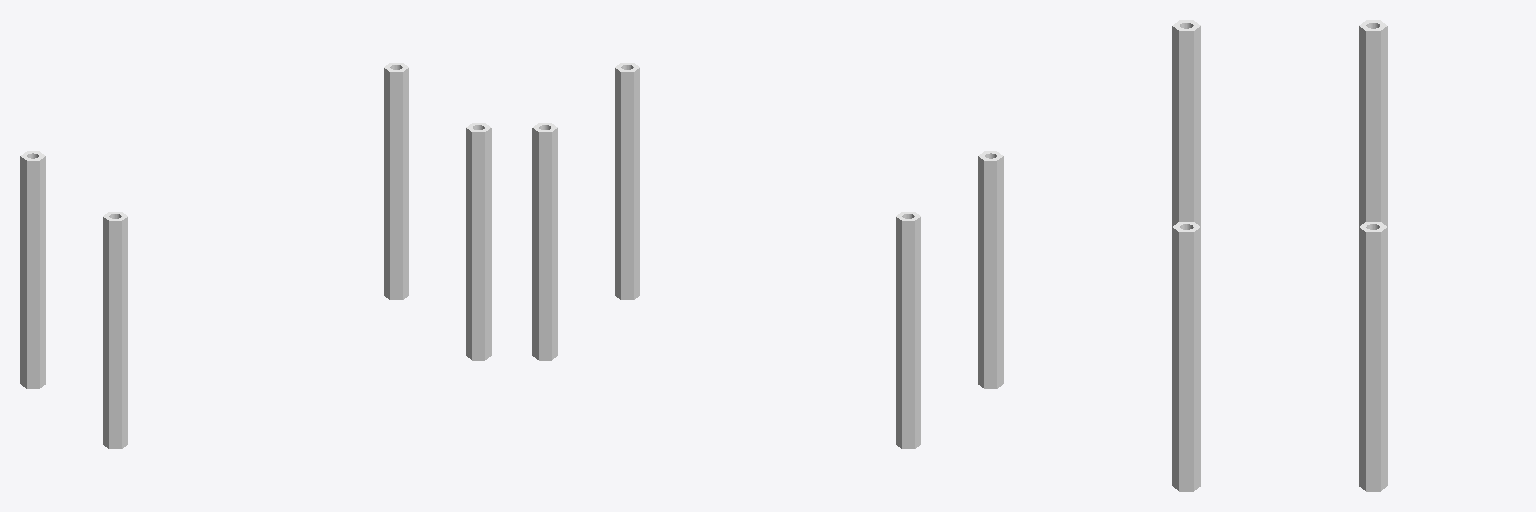
robot.urdf — robotcraft2019:
<?xml version="1.0"?>
<robot name="robotcraft2019">
    

<!-- ..Material Definitions.. -->
  <material name="black">
    <color rgba="0 0 0 1"/>
  </material>
  <material name="white">
    <color rgba="1 1 1 1"/>
  </material>
  <material name="red">
    <color rgba="0.8 0 0 1"/>
  </material>
  <material name="green">
    <color rgba="0 1 0 1"/>
  </material>
  <material name="purple">
    <color rgba="0.5 0 0.5 1"/>
  </material>
  <material name="transparent">
    <color rgba="0.6 0.6 0.6 0.35"/>
  </material>
  

<!-- ..Link Definitions.. -->
<link name="base_link">
    <visual>
      <origin rpy="0 0 3.14159265359" xyz="0.03 -0.005 -0.09"/> 
        <geometry>
            <mesh filename="package://robotcraft2019_robot_description/mesh/Black.stl" scale="0.001 0.001 0.001"/>
        </geometry>
        <material name="black"/>
    </visual>
</link>


<link name="bottom_base">
    <visual>
        <geometry>
            <mesh filename="package://robotcraft2019_robot_description/mesh/White.stl" scale="0.001 0.001 0.001"/>
        </geometry>
        <origin rpy="0 0 3.14159265359" xyz="0 -0.005 -0.11"/> 
        <material name="white"/>
    </visual>

</link>


<link name="acrylic_base">
    <visual>
        <geometry>
            <mesh filename="package://robotcraft2019_robot_description/mesh/Transparent.stl" scale="0.001 0.001 0.001"/>
        </geometry>
        <origin rpy="0 0 3.14159265359" xyz="0 -0.005 -0.145"/>
        <material name="white"/>
    </visual>

    <visual>
        <geometry>
            <mesh filename="package://robotcraft2019_robot_description/mesh/spacer.stl" scale="0.001 0.001 0.00125"/>
        </geometry>
        <origin rpy="0 0 3.14159265359" xyz="0.051 0.02 -0.01"/>
        <material name="white"/>
    </visual>

    <visual>
        <geometry>
            <mesh filename="package://robotcraft2019_robot_description/mesh/spacer.stl" scale="0.001 0.001 0.00125"/>
        </geometry>
        <origin rpy="0 0 3.14159265359" xyz="-0.051 0.02 -0.01"/>
        <material name="white"/>
    </visual>

    <visual>
        <geometry>
            <mesh filename="package://robotcraft2019_robot_description/mesh/spacer.stl" scale="0.001 0.001 0.00125"/>
        </geometry>
        <origin rpy="0 0 3.14159265359" xyz="-0.051 -0.02 -0.01"/>
        <material name="white"/>
    </visual>

    <visual>
        <geometry>
            <mesh filename="package://robotcraft2019_robot_description/mesh/spacer.stl" scale="0.001 0.001 0.00125"/>
        </geometry>
        <origin rpy="0 0 3.14159265359" xyz="0.051 -0.02 -0.01"/>
        <material name="white"/>
    </visual>

</link>

<link name="second_base">

    <visual>
        <geometry>
            <mesh filename="package://robotcraft2019_robot_description/mesh/spacer.stl" scale="0.001 0.001 0.00125"/>
        </geometry>
        <origin rpy="0 0 3.14159265359" xyz="0.051 0.02 -0.01"/>
        <material name="white"/>
    </visual>

    <visual>
        <geometry>
            <mesh filename="package://robotcraft2019_robot_description/mesh/spacer.stl" scale="0.001 0.001 0.00125"/>
        </geometry>
        <origin rpy="0 0 3.14159265359" xyz="-0.051 0.02 -0.01"/>
        <material name="white"/>
    </visual>

    <visual>
        <geometry>
            <mesh filename="package://robotcraft2019_robot_description/mesh/spacer.stl" scale="0.001 0.001 0.00125"/>
        </geometry>
        <origin rpy="0 0 3.14159265359" xyz="-0.051 -0.02 -0.01"/>
        <material name="white"/>
    </visual>

    <visual>
        <geometry>
            <mesh filename="package://robotcraft2019_robot_description/mesh/spacer.stl" scale="0.001 0.001 0.00125"/>
        </geometry>
        <origin rpy="0 0 3.14159265359" xyz="0.051 -0.02 -0.01"/>
        <material name="white"/>
    </visual>

    <visual>
        <geometry>
            <mesh filename="package://robotcraft2019_robot_description/mesh/Transparent.stl" scale="0.001 0.001 0.001"/>
        </geometry>
        <origin rpy="0 0 3.14159265359" xyz="0 -0.005 -0.145"/>
        <material name="white"/>
    </visual>

    <visual>
      <origin
        xyz="0.025 -0.039 0"
        rpy="0 0 1.54" />
      <geometry>
        <mesh
          filename="package://robotcraft2019_robot_description/mesh/rpi.stl" scale="0.001 0.001 0.001"/>
      </geometry>
      <material
        name="">
        <color
          rgba="0.64706 0.61961 0.58824 1" />
      </material>
    </visual>

</link>

<!-- Third base with laser -->

<link name="laser_frame">
    <visual>
        <geometry>
            <mesh filename="package://robotcraft2019_robot_description/mesh/Transparent.stl" scale="0.001 0.001 0.001"/>
        </geometry>
        <origin rpy="0 0 3.14159265359" xyz="0 -0.005 -0.145"/>
        <material name="white"/>
    </visual>

    <visual>
      <origin
        xyz="0 0 0"
        rpy="0 0 0" />
      <geometry>
        <mesh
          filename="package://robotcraft2019_robot_description/mesh/ydlidar.dae" />
      </geometry>
      <material
        name="">
        <color
          rgba="0.64706 0.61961 0.58824 1" />
      </material>
    </visual>

</link>


<link name="arduino">
    <visual>
        <geometry>
            <mesh filename="package://robotcraft2019_robot_description/mesh/Green.stl" scale="0.001 0.001 0.001"/>
        </geometry>
        <origin rpy="0 0 3.14159265359" xyz="0 -0.005 -0.17"/>
        <material name="green"/>
    </visual>
</link>


<link name="battery">
    <visual>
        <geometry>
            <mesh filename="package://robotcraft2019_robot_description/mesh/Purple.stl" scale="0.001 0.001 0.001"/>
        </geometry>
        <origin rpy="0 0 3.14159265359" xyz="0.015 -0.005 -0.135"/>
        <material name="purple"/>
    </visual>
</link>


<link name="front_ir"/>

<link name="right_ir"/>

<link name="left_ir"/>

    

<!-- ..Joint Definitions..  -->
    
<joint name="base_link_to_bottom_base" type="fixed">
    <parent link="base_link"/>
    <child link="bottom_base"/>
    <origin rpy="0 0 0" xyz="0 0 0.02"/>
</joint>

<joint name="base_link_to_arduino" type="fixed">
    <parent link="base_link"/>
    <child link="arduino"/>
    <origin rpy="0 0 0" xyz="0 0 0.08"/>
</joint>

<joint name="base_link_to_battery" type="fixed">
    <parent link="base_link"/>
    <child link="battery"/>
    <origin rpy="0 0 0" xyz="-0.015 0 0.045"/>
</joint>

<joint name="base_link_to_acrylic_base" type="fixed">
    <parent link="base_link"/>
    <child link="acrylic_base"/>
    <origin rpy="0 0 0" xyz="0 0 0.055"/>
</joint>

<joint name="base_link_to_second_base" type="fixed">
    <parent link="base_link"/>
    <child link="second_base"/>
    <origin rpy="0 0 0" xyz="0 0 0.085"/>
</joint>

<joint name="base_link_to_laser_frame" type="fixed">
    <parent link="base_link"/>
    <child link="laser_frame"/>
    <origin rpy="0 0 0" xyz="0 0 0.117"/>
</joint>


<!-- 4 more joints: back_lf_sensor, front_ir, right_ir, left_ir -->

<joint name="base_link_to_front_ir_sensor" type="fixed">
    <parent link="base_link"/>
    <child link="front_ir"/>
    <origin rpy="0 0 0" xyz="0.052 0 0.035"/>
</joint>

<joint name="base_link_to_right_ir_sensor" type="fixed">
    <parent link="base_link"/>
    <child link="right_ir"/>
    <origin rpy="0 0 -0.78539816339" xyz="0.0438 -0.048 0.035"/>
</joint>

<joint name="base_link_to_left_ir_sensor" type="fixed">
    <parent link="base_link"/>
    <child link="left_ir"/>
    <origin rpy="0 0 0.78539816339" xyz="0.0438 0.043 0.035"/>
</joint>

</robot>

--- Facts derived from the render (not from the file) ---
3 views of the same robot in one strip: view 1: azimuth 30°, elevation 25°; view 2: azimuth 150°, elevation 25°; view 3: azimuth 270°, elevation 25° (orthographic).
Robot: robotcraft2019 — 10 links, 9 joints (9 fixed); root link base_link; default pose: every joint at zero.
Links seen in each view (by area): view 1: second_base, acrylic_base; view 2: second_base, acrylic_base; view 3: second_base, acrylic_base.
Link boxes in pixels (x1=…): second_base: x1=20, y1=63, x2=491, y2=334; acrylic_base: x1=20, y1=180, x2=491, y2=448; second_base: x1=532, y1=63, x2=1003, y2=333; acrylic_base: x1=532, y1=180, x2=1003, y2=448; second_base: x1=1172, y1=20, x2=1387, y2=364; acrylic_base: x1=1172, y1=153, x2=1387, y2=491.
Bounding box of the posed robot: 0.1074 × 0.0462 × 0.0613 m (x, y, z).
8 mesh visuals loaded from 8 distinct referenced files (1 binary STL); not drawn: 9 (reference not matched to a file when rendering).